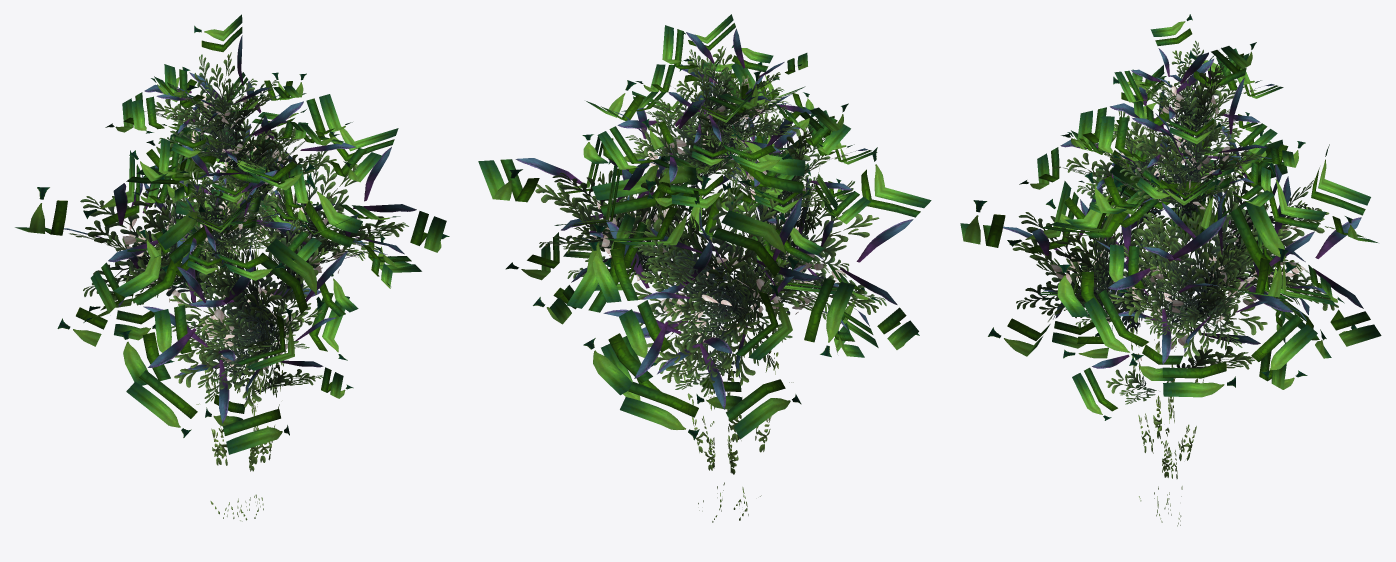
File: S_Tree_Green051.FBX
The picture shows the model from 3 angles, left to right: view 1: azimuth 30°, elevation 25°; view 2: azimuth 150°, elevation 25°; view 3: azimuth 270°, elevation 25°; orthographic projection. The views are drawn at different scales.
Visible parts, largest first — view 1: S_Tree_Green051; view 2: S_Tree_Green051; view 3: S_Tree_Green051.
Part boxes in pixels (x1,y1,x2,y2): S_Tree_Green051: (15,14,449,521); S_Tree_Green051: (478,14,931,522); S_Tree_Green051: (960,14,1381,526).
Size of the model in its own units: 809 by 840 by 1123.
